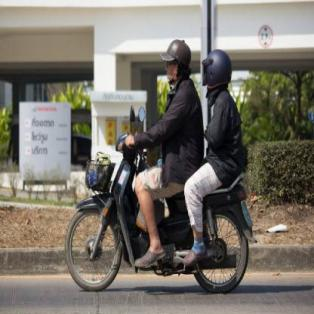Motocicleta: (65, 114, 249, 296)
